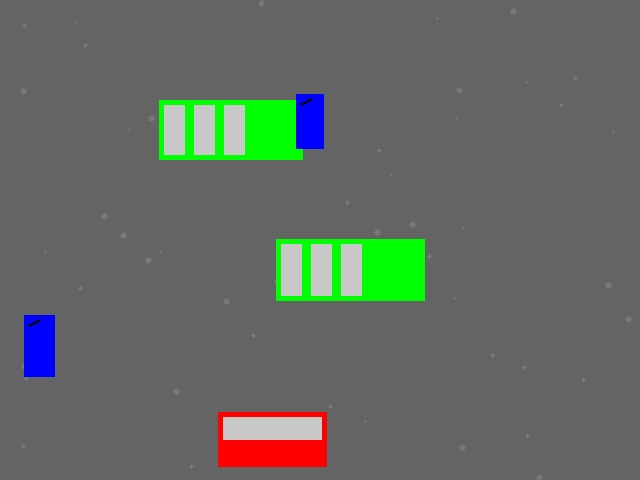bus: (276, 239, 424, 300), (159, 100, 302, 159)
car: (218, 412, 326, 466)
motorcycle: (24, 315, 54, 376), (296, 94, 323, 148)
